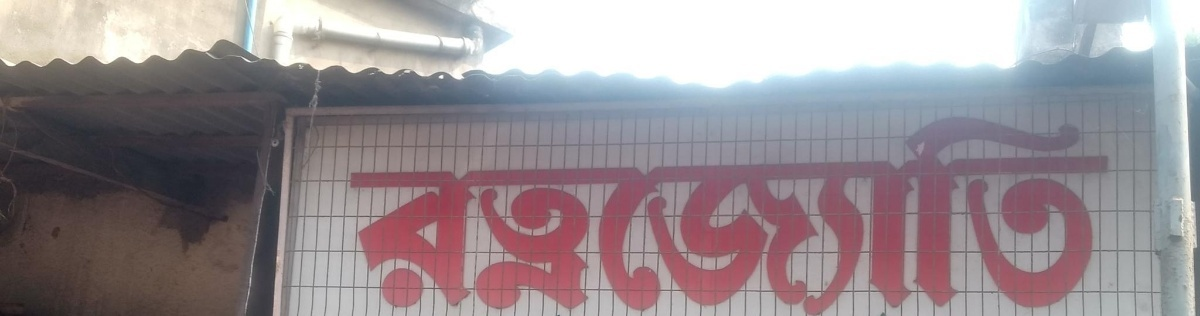text: (353, 103, 368, 316), (369, 103, 384, 316), (385, 103, 400, 316), (401, 103, 416, 316), (417, 103, 432, 316), (433, 103, 448, 316), (449, 103, 464, 316), (465, 103, 480, 316), (481, 103, 496, 316), (497, 103, 512, 316), (513, 103, 528, 316), (529, 103, 544, 316), (545, 103, 560, 316), (561, 103, 576, 316), (577, 103, 592, 316), (593, 103, 608, 316), (609, 103, 624, 316), (625, 103, 640, 316), (641, 103, 656, 316), (657, 103, 672, 316), (673, 103, 688, 316), (689, 103, 704, 316), (705, 103, 720, 316), (721, 103, 736, 316), (737, 103, 752, 316), (753, 103, 768, 316), (769, 103, 784, 316), (785, 103, 800, 316), (801, 103, 816, 316), (817, 103, 832, 316), (833, 103, 848, 316), (849, 103, 864, 316), (865, 103, 880, 316), (881, 103, 896, 316), (897, 103, 912, 316), (913, 103, 928, 316), (929, 103, 944, 316), (945, 103, 960, 316), (961, 103, 976, 316), (977, 103, 992, 316), (993, 103, 1008, 316), (1009, 103, 1024, 316), (1025, 103, 1040, 316), (1041, 103, 1056, 316), (1057, 103, 1072, 316), (1073, 103, 1088, 316), (1089, 103, 1104, 316), (1105, 103, 1120, 316), (346, 103, 352, 316)
